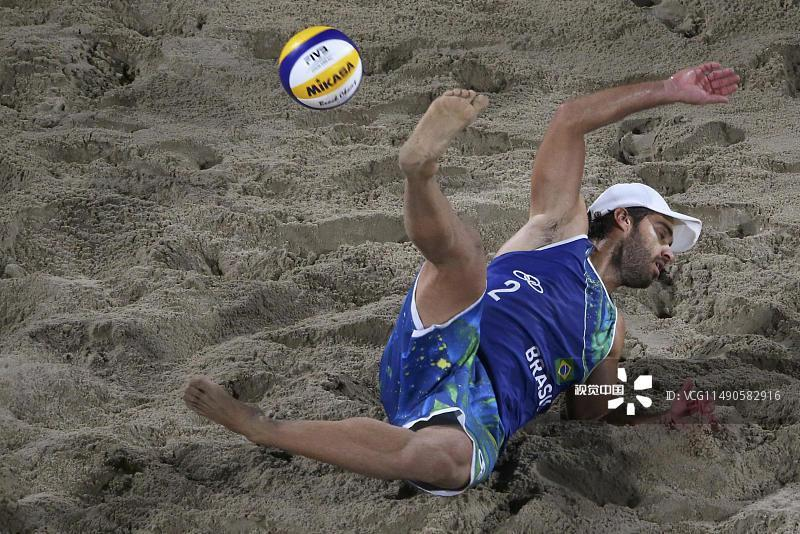Fall-Detected: (165, 58, 723, 485)
